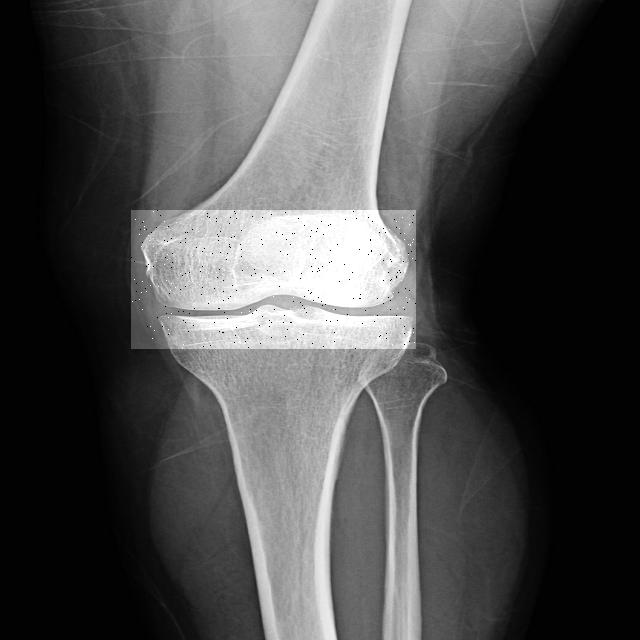osteo: (131, 210, 416, 349)
